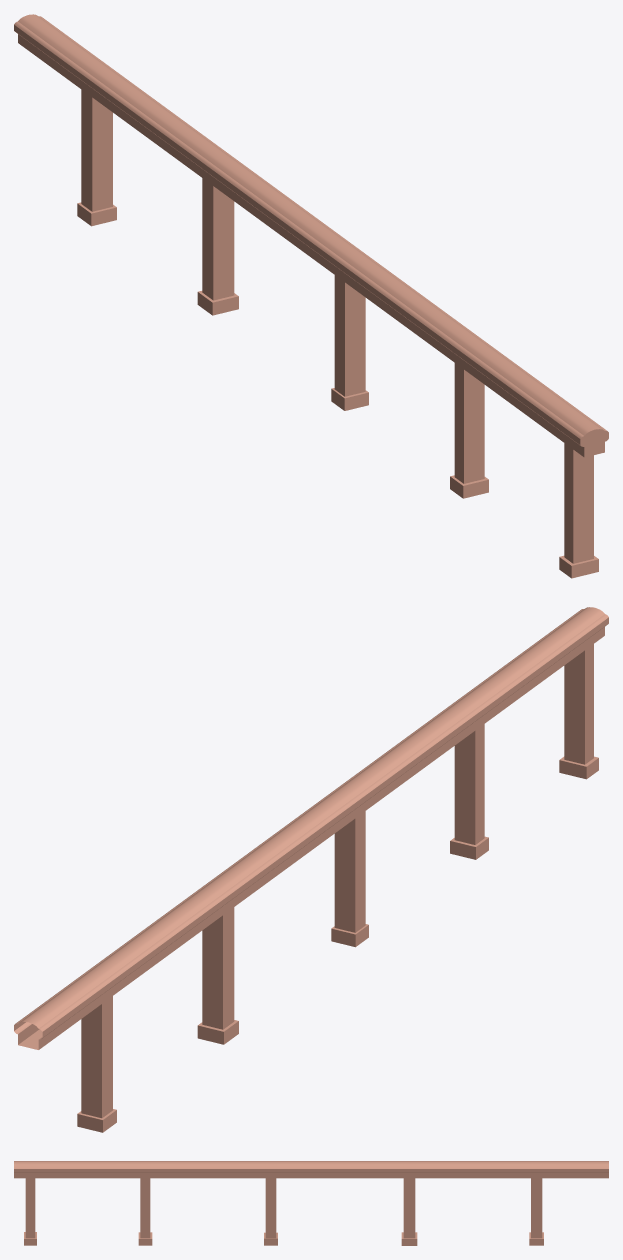
The model's file is Valla_De_Madera_003.fbx.
The picture shows the model from 3 angles, top to bottom: view 1: azimuth 30°, elevation 25°; view 2: azimuth 150°, elevation 25°; view 3: azimuth 270°, elevation 25°; orthographic projection. The views are drawn at different scales.
Visible parts, largest first — view 1: Vaya_005; view 2: Vaya_005; view 3: Vaya_005.
Boxes of the visible parts, <box> form: Vaya_005: <box>14,14,608,578</box>; Vaya_005: <box>14,607,608,1132</box>; Vaya_005: <box>14,1161,608,1245</box>.
Size of the model in its own units: 0.00233 by 0.0119 by 0.08.
